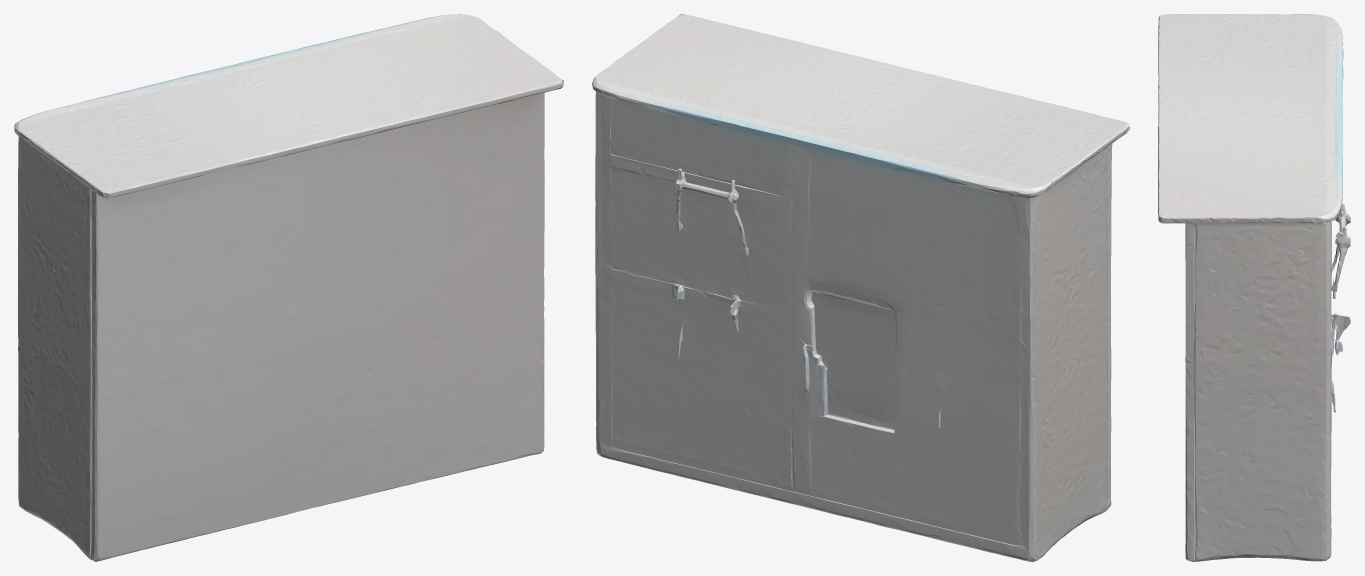
The model's file is ast_9aa4c4becf13.glb.
3 renders of one model, left to right at view 1: azimuth 30°, elevation 25°; view 2: azimuth 150°, elevation 25°; view 3: azimuth 270°, elevation 25°, orthographic. The views are drawn at different scales.
Parts seen in each view (by area): view 1: geometry_0; view 2: geometry_0; view 3: geometry_0.
Part boxes in pixels (left/top/right/bottom): geometry_0: left=14, top=14, right=563, bottom=561; geometry_0: left=592, top=14, right=1129, bottom=561; geometry_0: left=1158, top=14, right=1350, bottom=561.
Bounding box in the file's own units: 1 × 0.7958 × 0.3997.
1 material, 1 textured.
